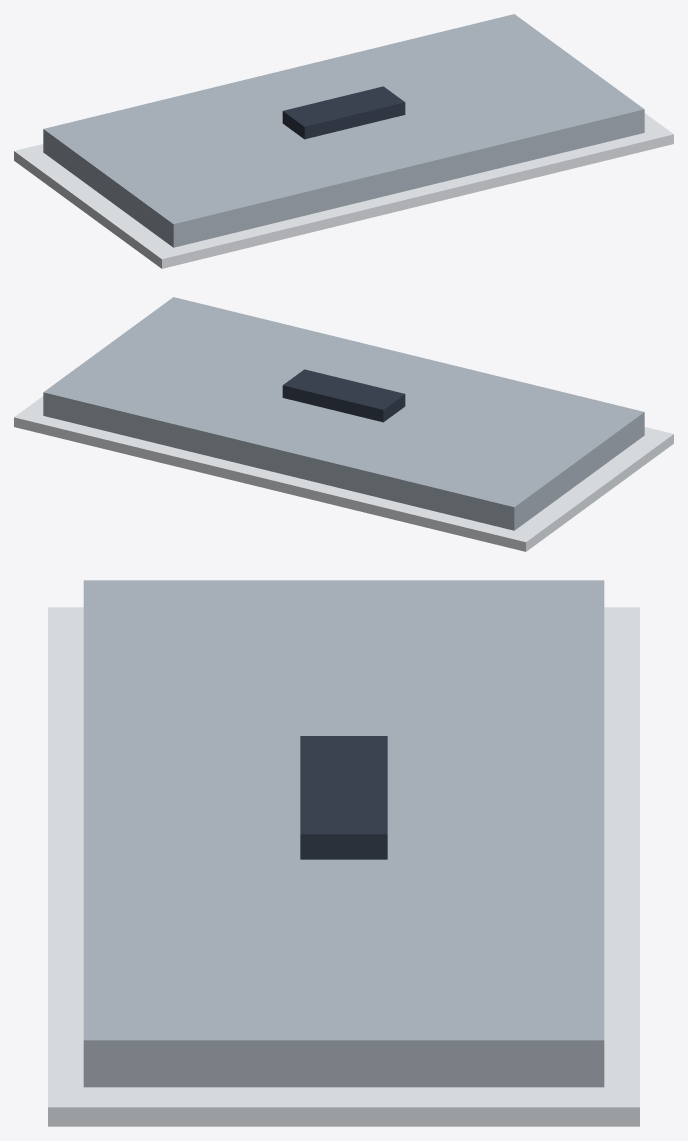
3 renders of one model, top to bottom at view 1: azimuth 30°, elevation 25°; view 2: azimuth 150°, elevation 25°; view 3: azimuth 270°, elevation 25°, orthographic. The views are drawn at different scales.
Visible parts, largest first — view 1: cad-fixture-troffer-2x4; view 2: cad-fixture-troffer-2x4; view 3: cad-fixture-troffer-2x4.
Part boxes in pixels (bbox=[...]): cad-fixture-troffer-2x4: bbox=[14, 14, 673, 268]; cad-fixture-troffer-2x4: bbox=[14, 297, 673, 551]; cad-fixture-troffer-2x4: bbox=[48, 580, 639, 1126].
Bounding box in the file's own units: 1.22 × 0.108 × 0.61.
